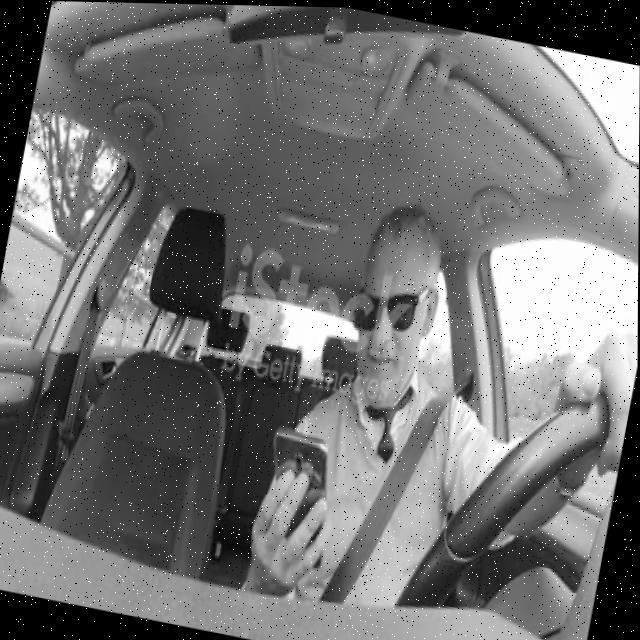PhoneCall: (249, 420, 346, 574)
